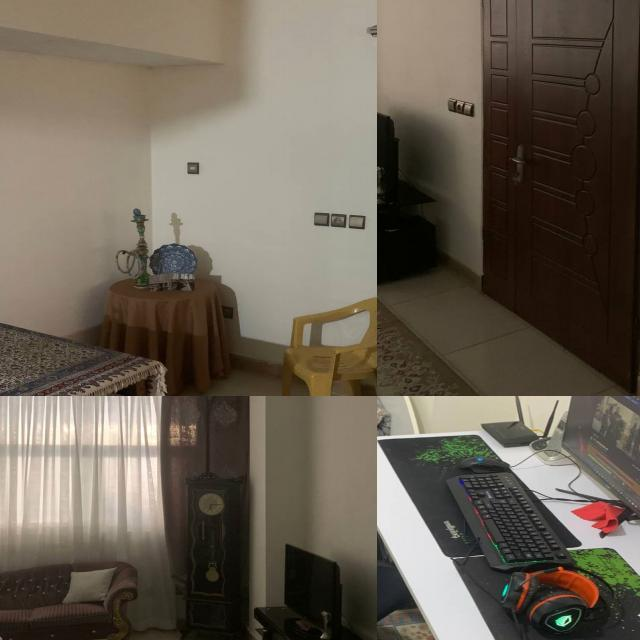Floor: (116, 610, 208, 640)
Wall: (0, 48, 135, 338), (252, 396, 377, 640), (377, 0, 483, 276)
